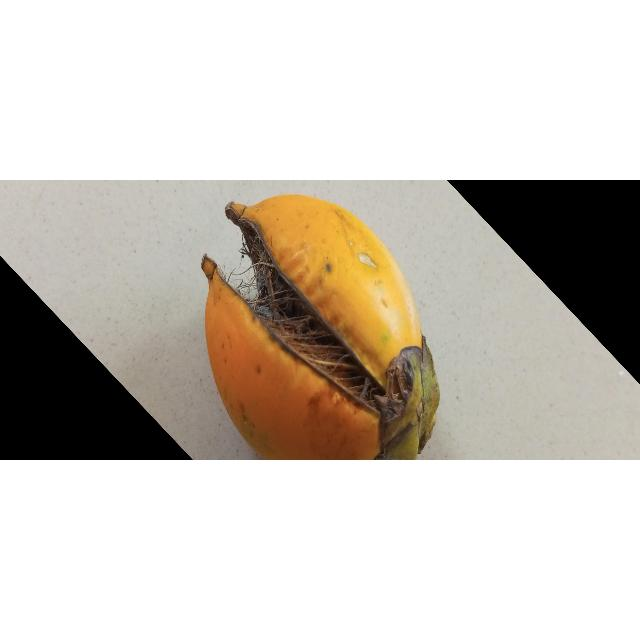damaged: (201, 195, 439, 461)
